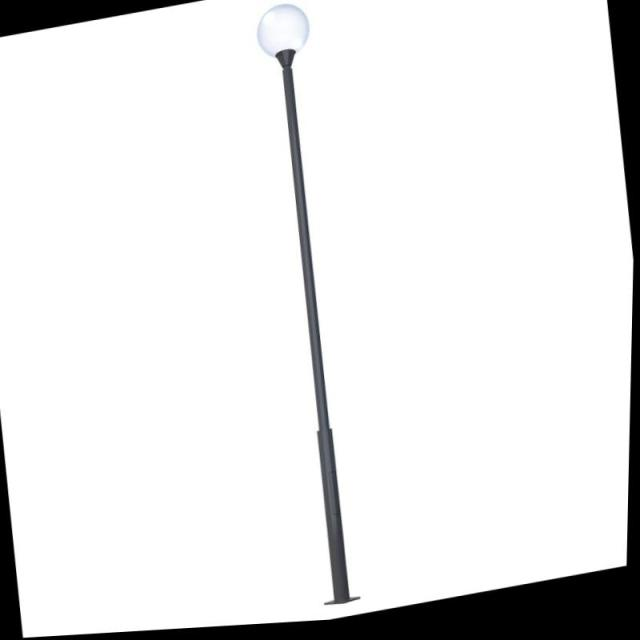pole: (264, 132, 380, 608)
